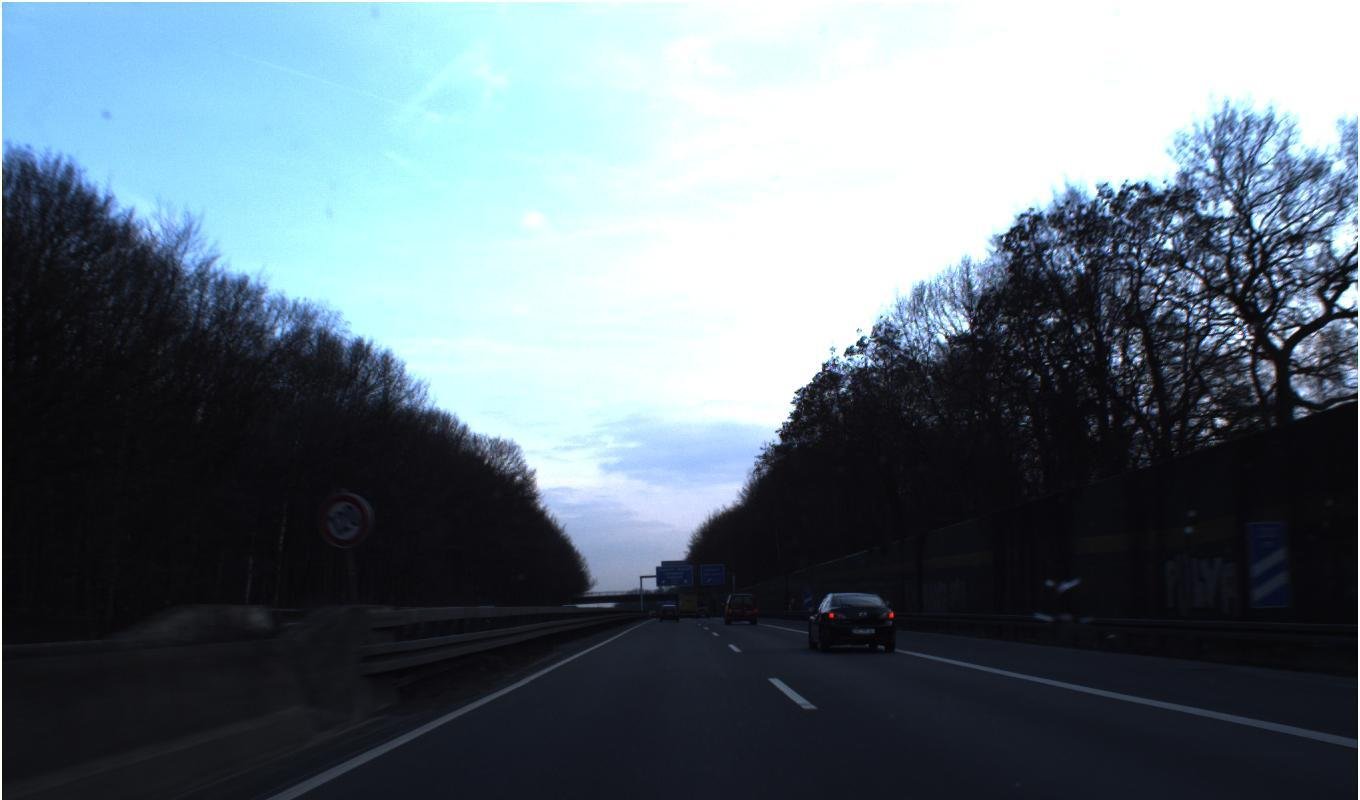speed limit 120 prohibitory: (316, 490, 374, 549)
